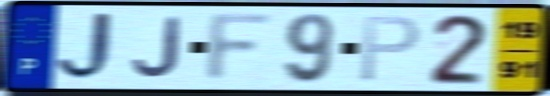2: (428, 12, 492, 87)
9: (280, 12, 341, 86)
F: (201, 11, 279, 86)
J: (54, 10, 123, 85), (130, 15, 183, 80)
P: (357, 14, 423, 84)
